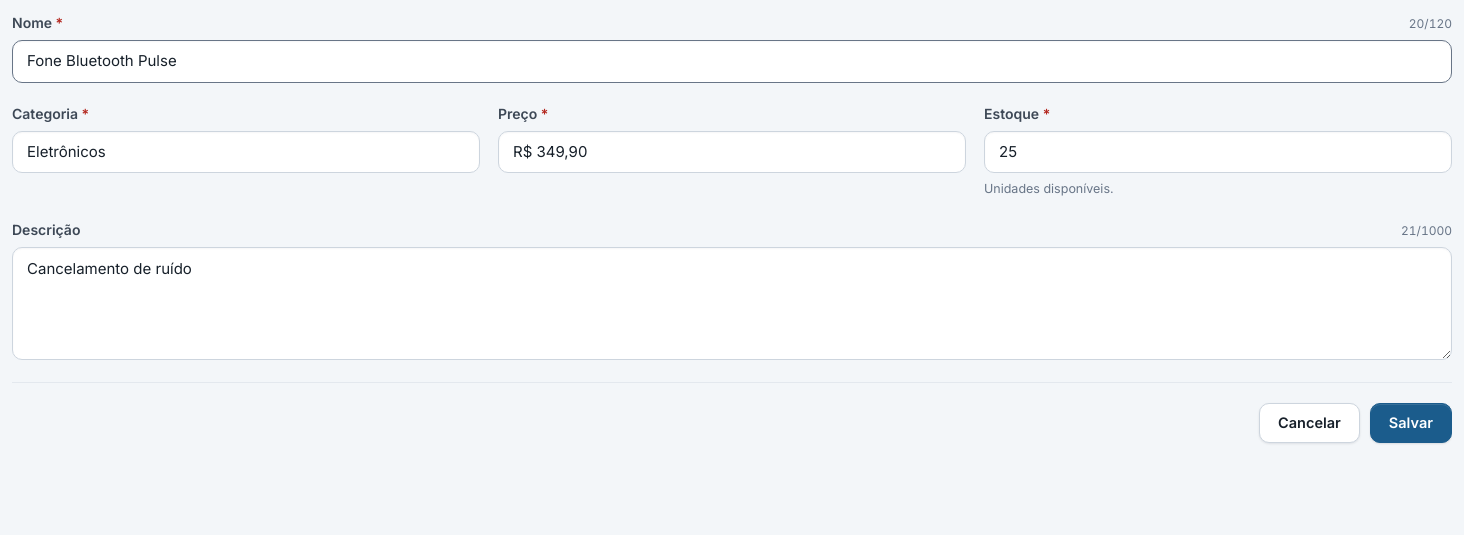
Test: ProductForm — o mesmo formulário para criar e editar › mostra o erro que a API devolveu embaixo do campo certo
Click the button "Salvar": (1411,423) [1370,403,1452,443]
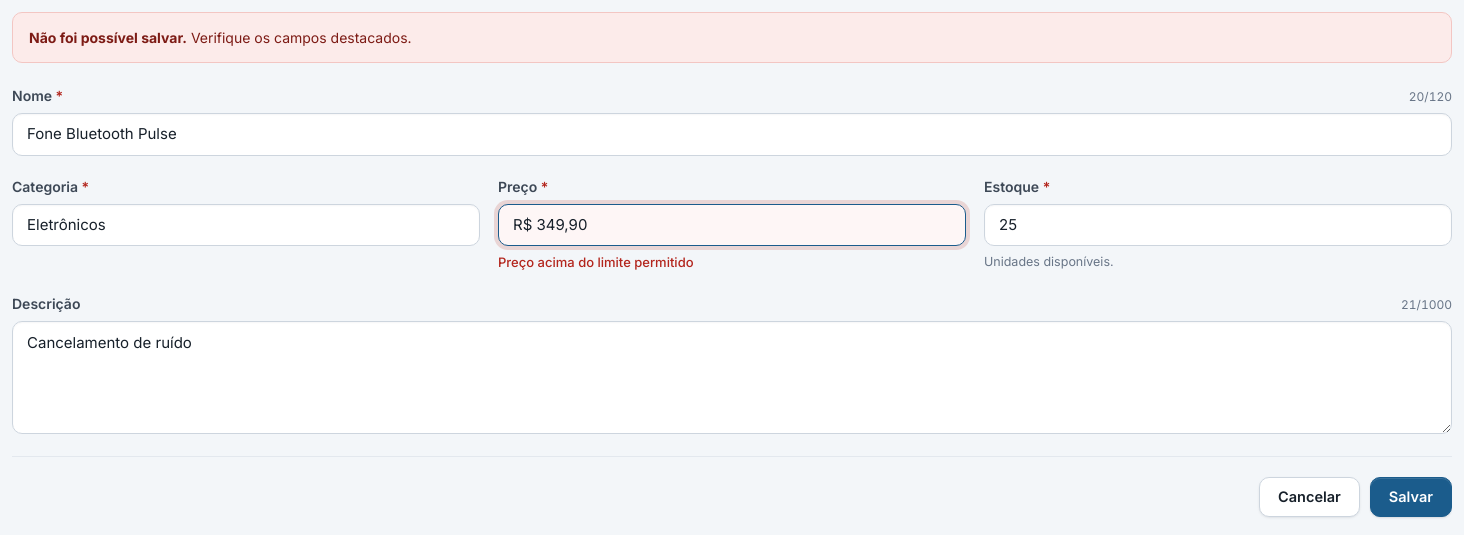
Expected: the text "Preço acima do limite permitido" is shown, [498,254,694,270]
Expected: the message shows "Não foi possível salvar.", [29,29,187,46]
